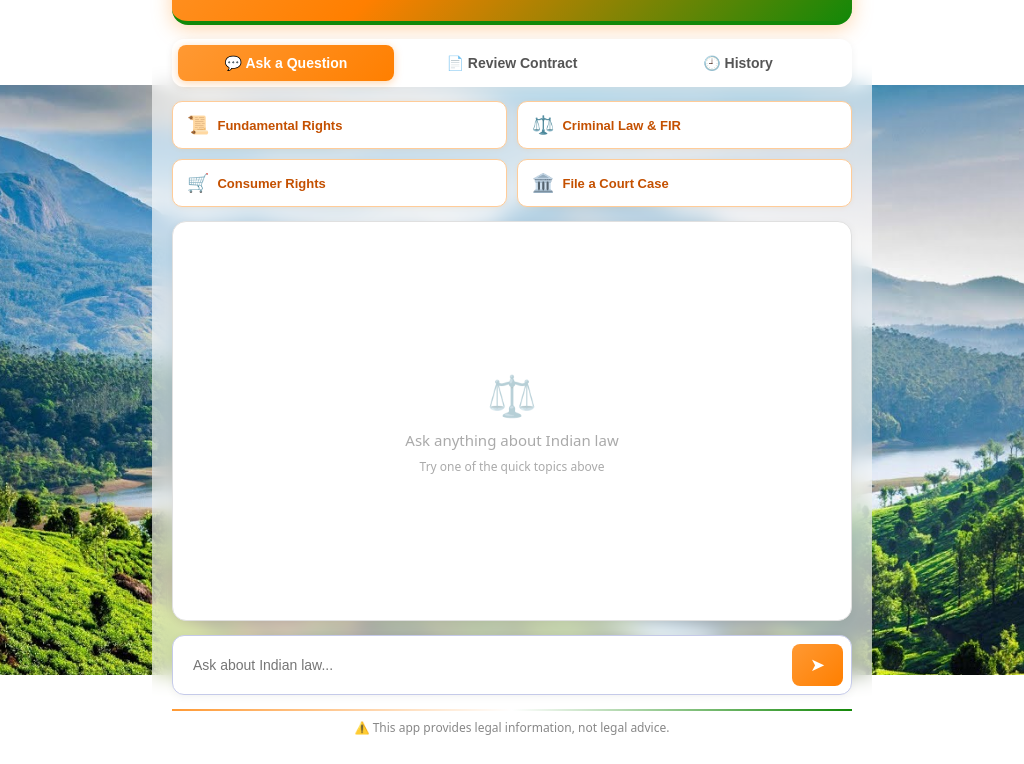
Test: sends message and displays bot reply
(page scrolled)
Type "What is FIR?" into the field with placeholder "Ask about Indian law...".
click(482, 665); type("What is FIR?")  # box [181,644,784,686]
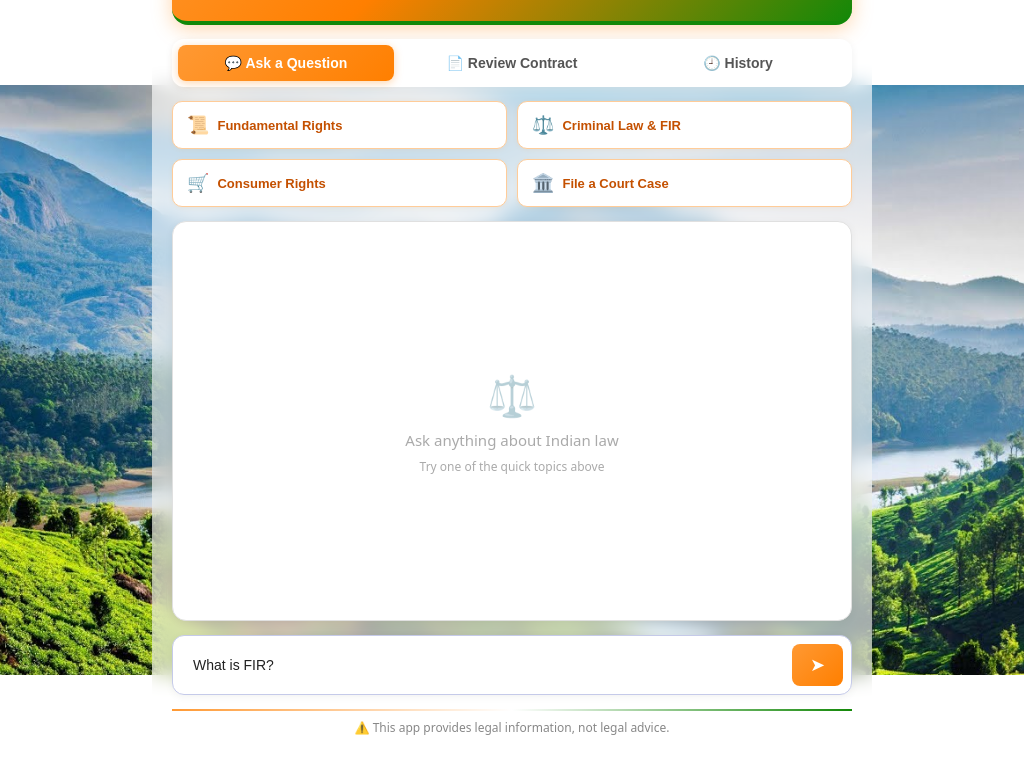
Click the button "➤".
click(817, 665)  # box [792,644,843,686]
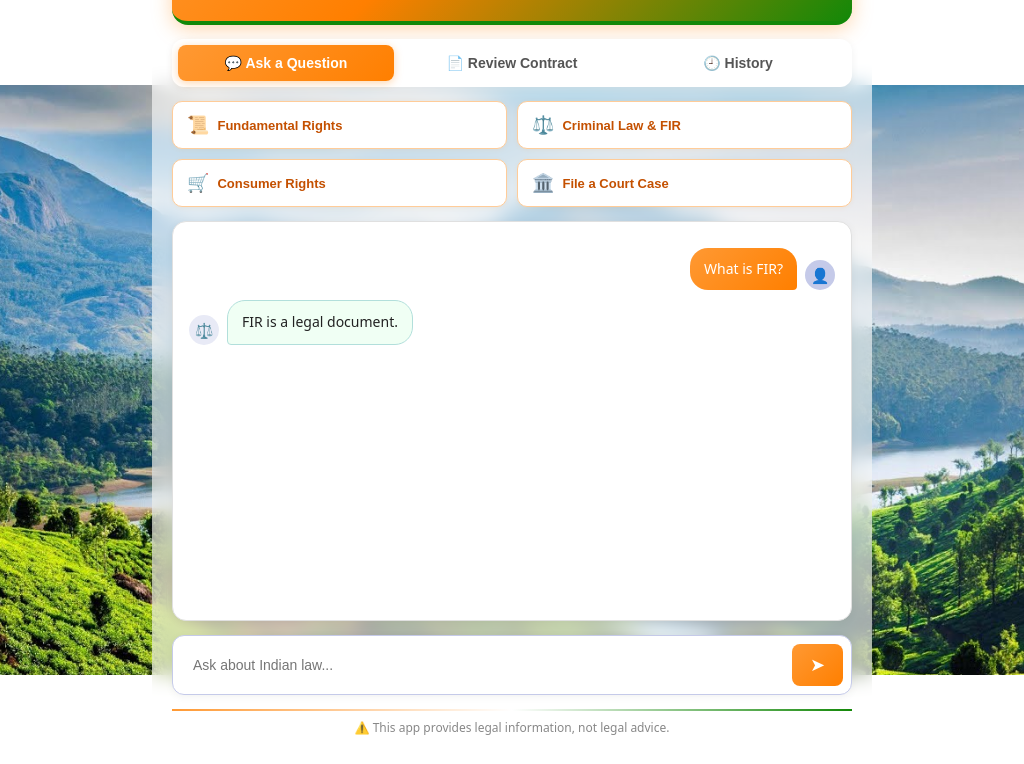
expect the text "What is FIR?" is shown: met, box [690,248,797,290]
expect the text "FIR is a legal document." is shown: met, box [227,300,413,345]
